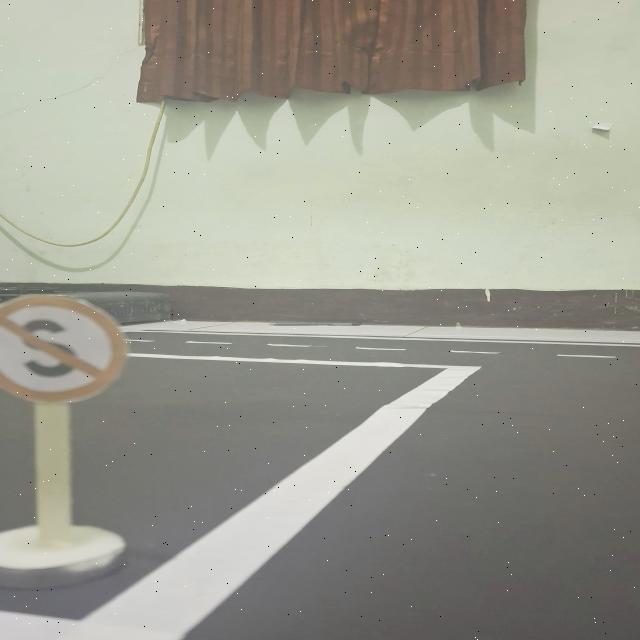Rambu Berhenti: (0, 295, 125, 401)
